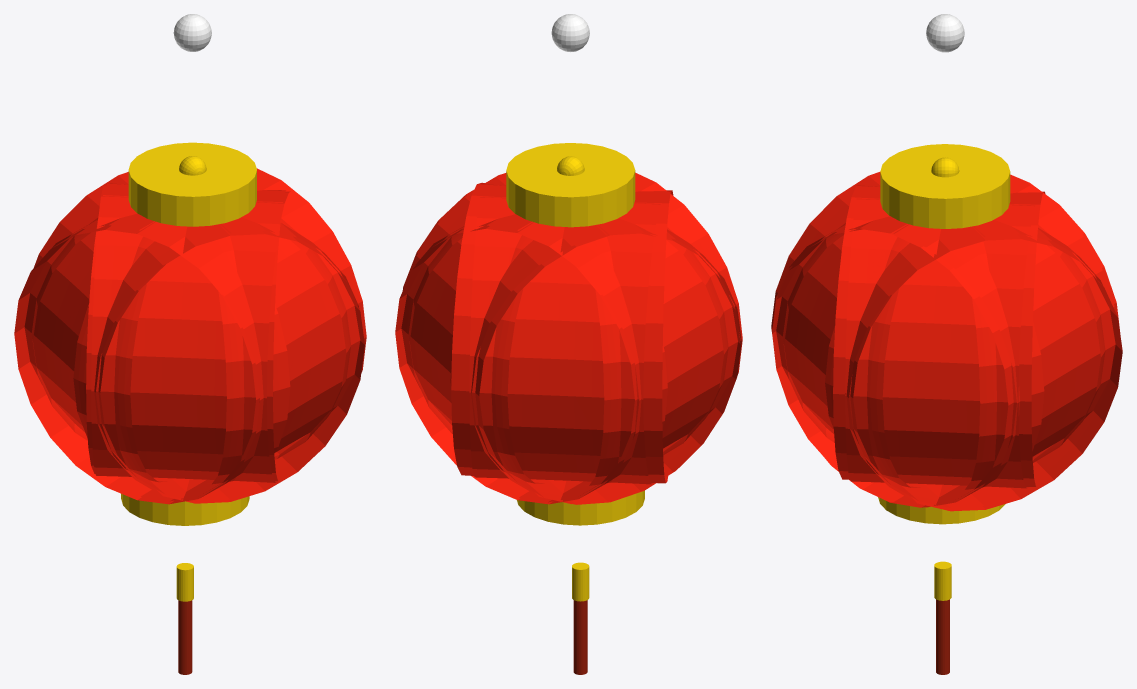
Rendered from lantern.007.obj.
3 views of the same model, side by side, from view 1: azimuth 30°, elevation 25°; view 2: azimuth 150°, elevation 25°; view 3: azimuth 270°, elevation 25° (orthographic).
Visible parts, largest first — view 1: lantern.007_3d-model.007; view 2: lantern.007_3d-model.007; view 3: lantern.007_3d-model.007.
Part boxes in pixels (<box>): lantern.007_3d-model.007: <box>14,14,366,674</box>; lantern.007_3d-model.007: <box>395,14,742,674</box>; lantern.007_3d-model.007: <box>771,14,1122,674</box>.
Size of the model in its own units: 0.2315 by 0.5187 by 0.2502.
